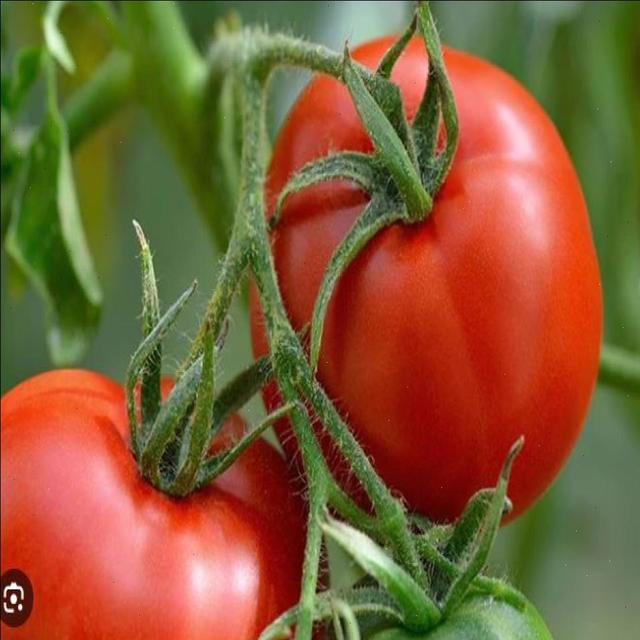Healthy Fruit: (107, 180, 293, 342)
